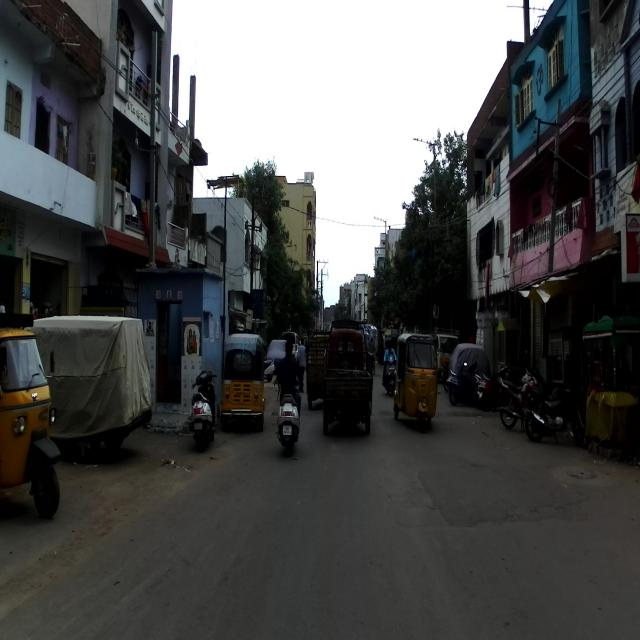autorickshaw: (0, 313, 61, 521), (322, 319, 373, 436), (220, 332, 268, 432)
scooter: (188, 368, 218, 452), (273, 378, 302, 458)
